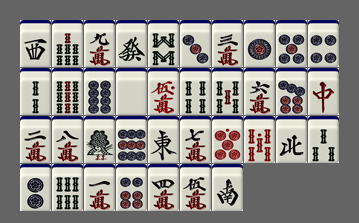0m: (148, 68, 179, 115)
0p: (212, 116, 243, 163)
0s: (244, 116, 275, 163)
1m: (84, 164, 115, 211)
1p: (244, 20, 275, 67)
1s: (84, 116, 115, 163)
1z: (148, 116, 179, 163)
2m: (20, 116, 51, 163)
2p: (20, 164, 51, 211)
2s: (20, 68, 51, 115)
2z: (212, 164, 243, 211)
3m: (212, 20, 243, 67)
3p: (180, 20, 211, 67)
3s: (308, 116, 339, 163)
3z: (20, 20, 51, 67)
4m: (148, 164, 179, 211)
4p: (308, 20, 339, 67)
4s: (180, 68, 211, 115)
4z: (276, 116, 307, 163)
5m: (180, 164, 211, 211)
5p: (276, 20, 307, 67)
5s: (212, 68, 243, 115)
5z: (116, 68, 147, 115)
6m: (244, 68, 275, 115)
6p: (116, 164, 147, 211)
6s: (52, 164, 83, 211)
6z: (116, 20, 147, 67)
7m: (180, 116, 211, 163)
7p: (276, 68, 307, 115)
7s: (52, 20, 83, 67)
7z: (308, 68, 339, 115)
8m: (52, 116, 83, 163)
8p: (84, 68, 115, 115)
8s: (148, 20, 179, 67)
9m: (84, 20, 115, 67)
9p: (116, 116, 147, 163)
9s: (52, 68, 83, 115)
